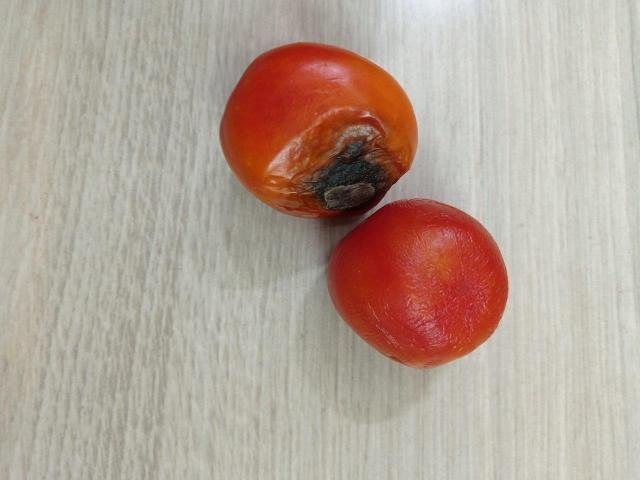defect: (212, 33, 422, 226)
